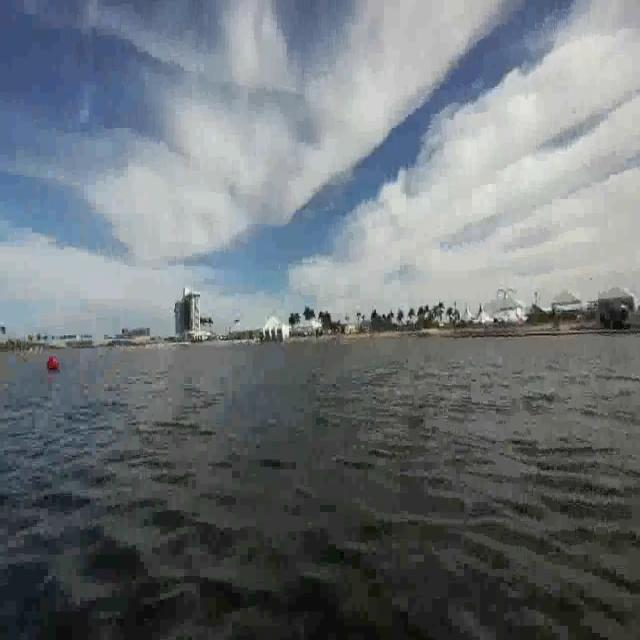red-buoy: (46, 356, 58, 370)
